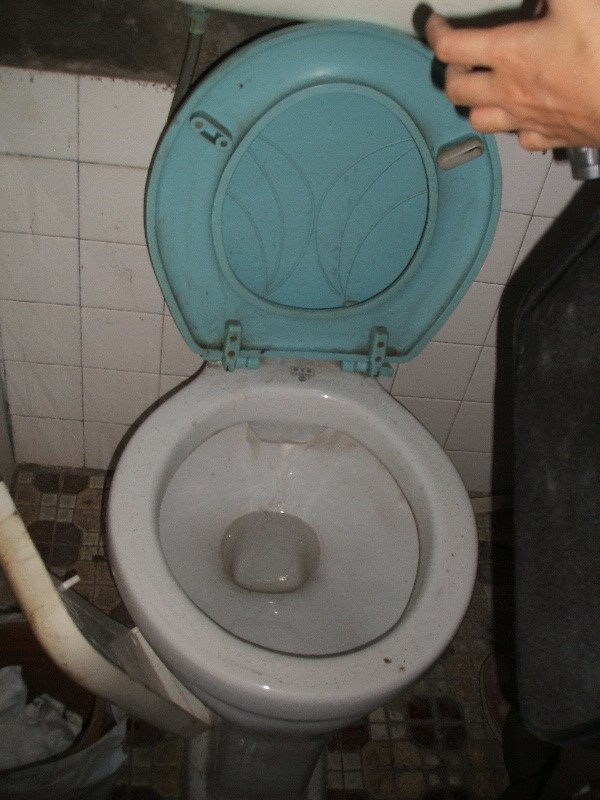toilet: (98, 16, 507, 800)
